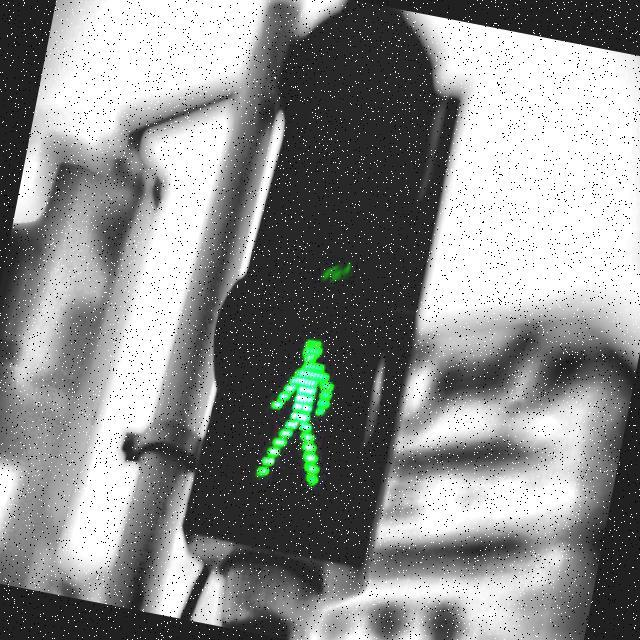green_light: (250, 325, 350, 493)
